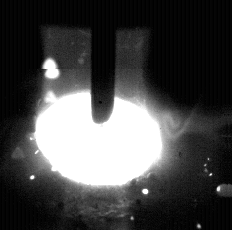arame: (92, 0, 115, 124)
poca: (34, 0, 162, 230)
